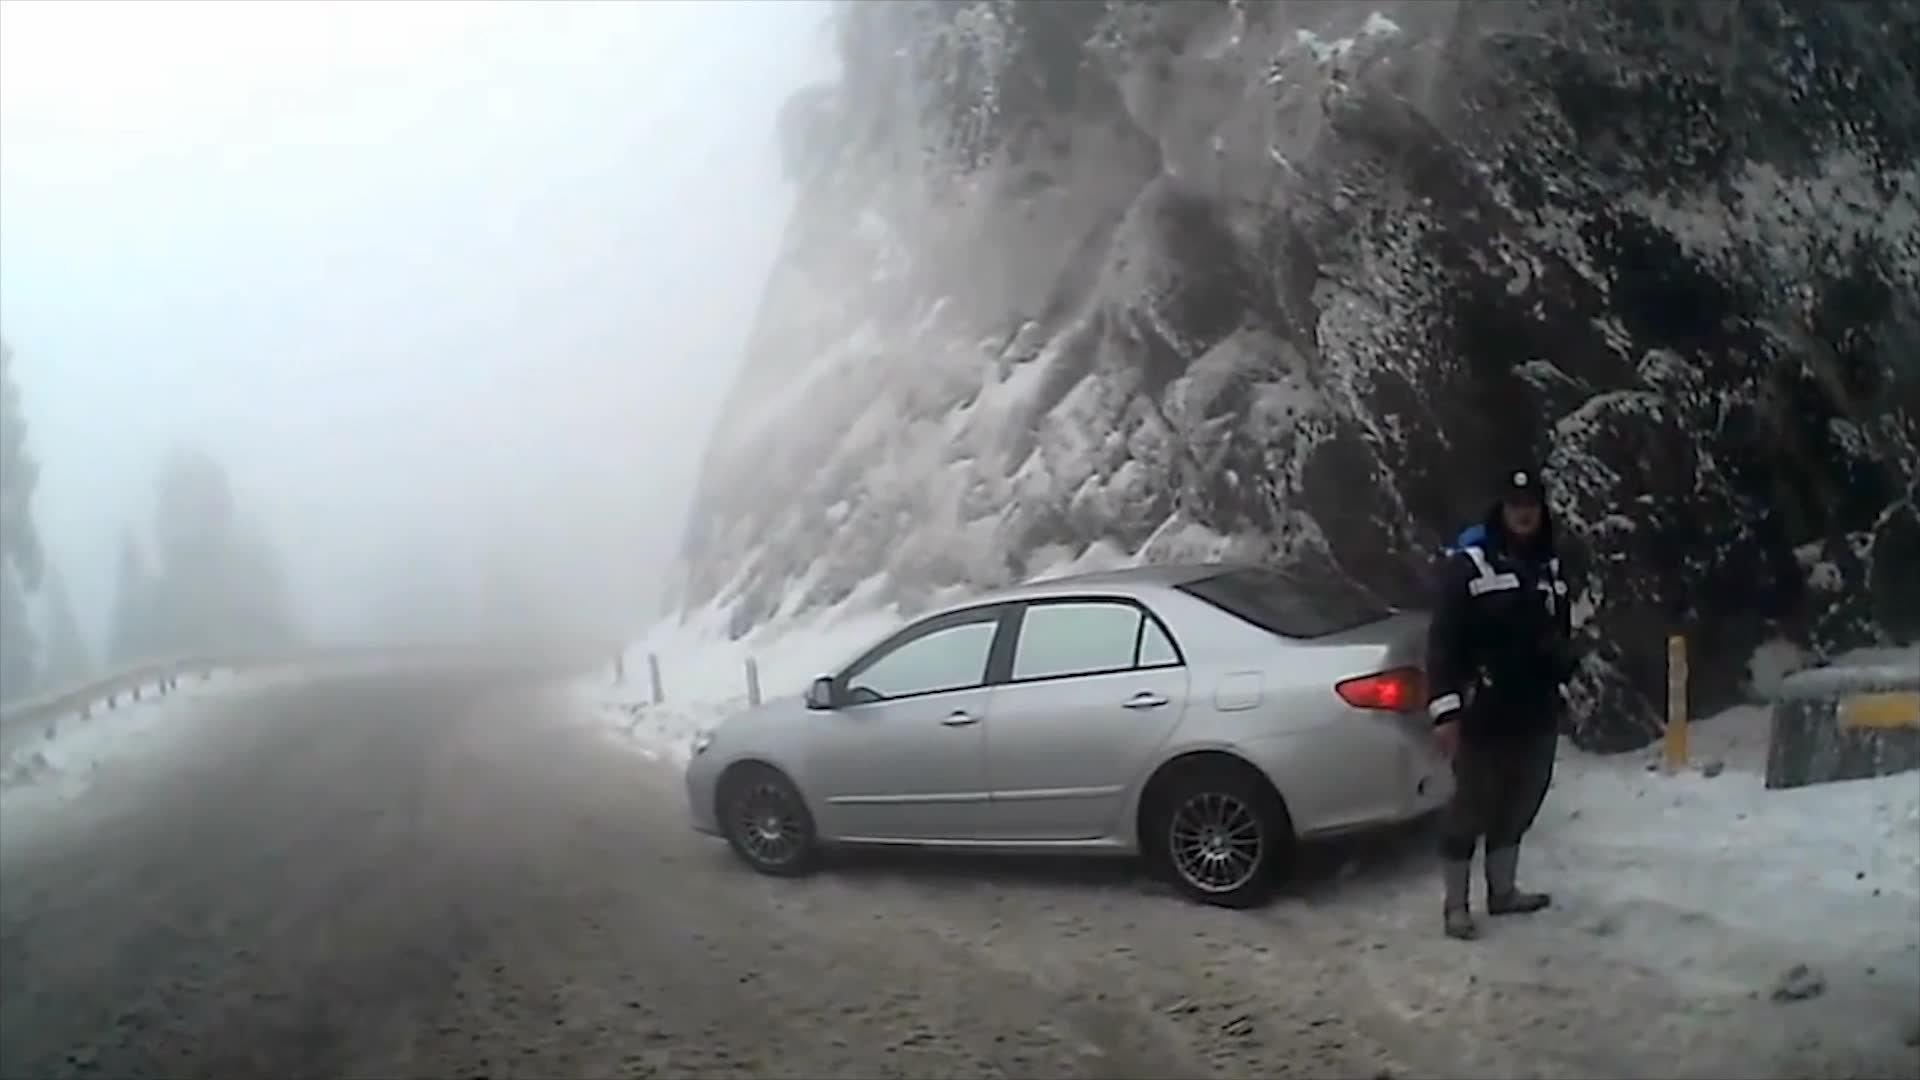pedestrian: (1421, 480, 1579, 953)
vehicle: (681, 560, 1527, 909)
